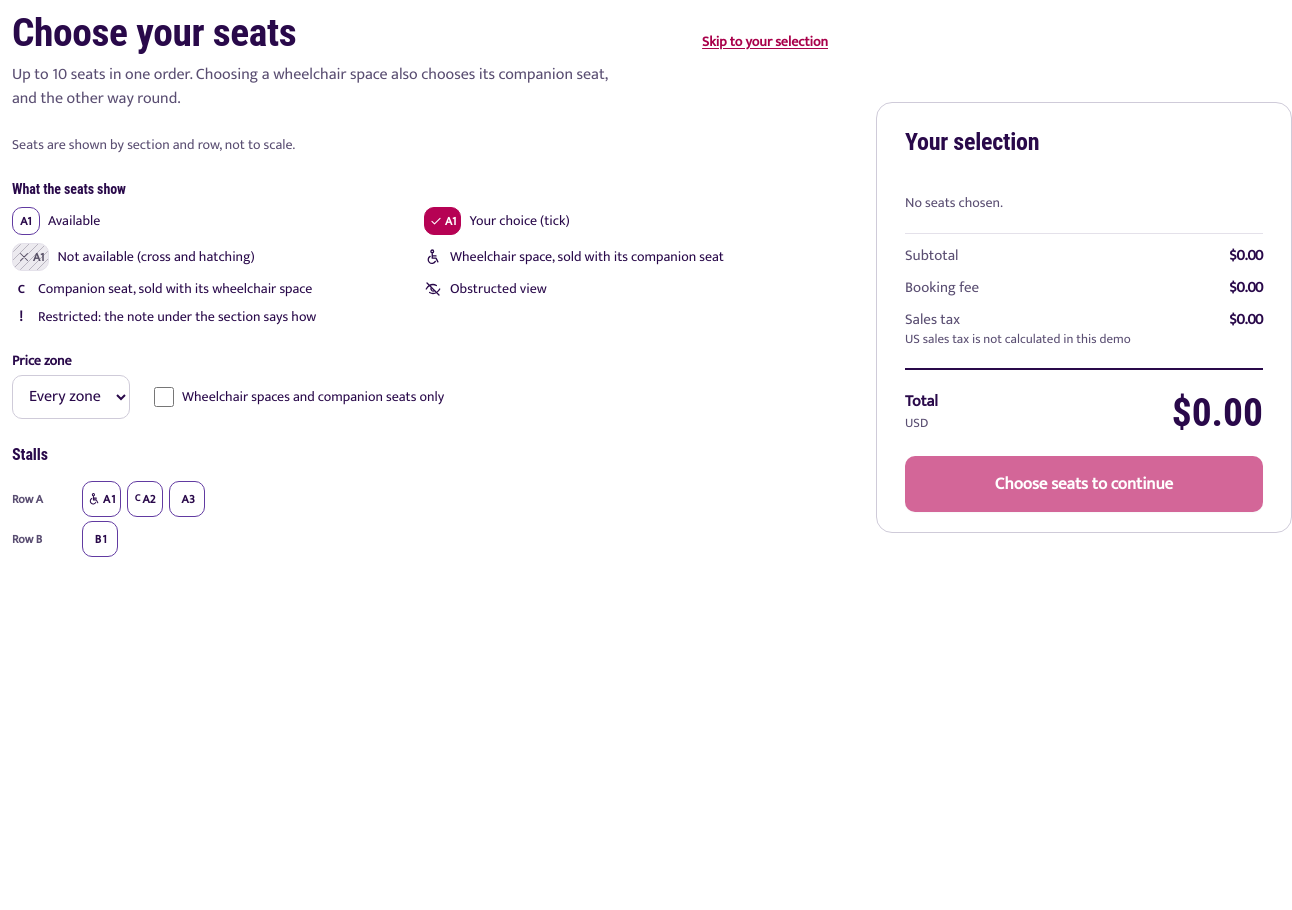
Test: reserving, naming and paying › says a code chosen before reserving is checked then, not that it took
Click the button "A3": (187,499) [169,481,205,517]
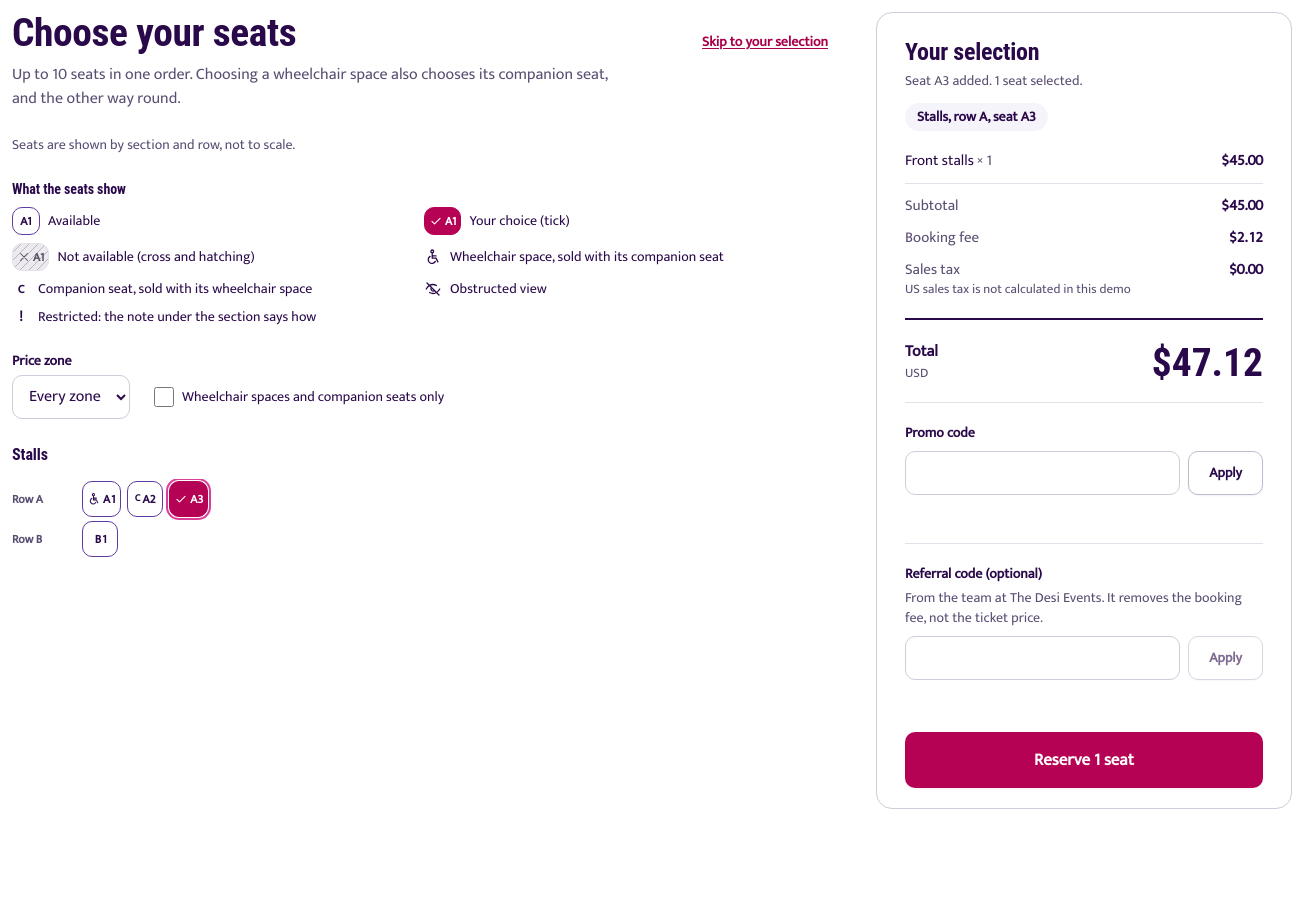
In the field labelled "Promo code": (1043,473) [905,451,1180,495], type "save10"
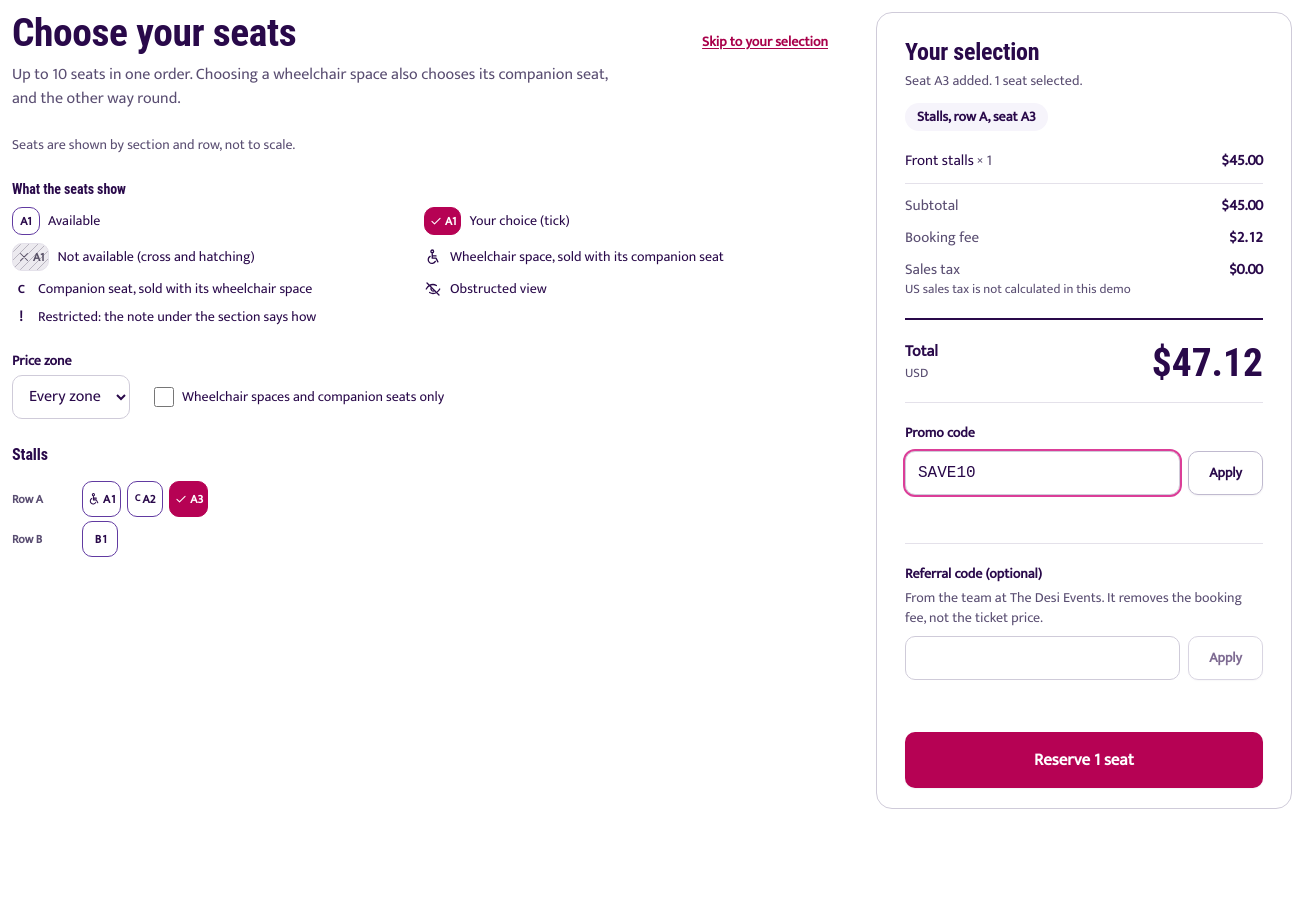
Click the button "Apply" below "Promo code": (1226,473) [1188,451,1263,495]
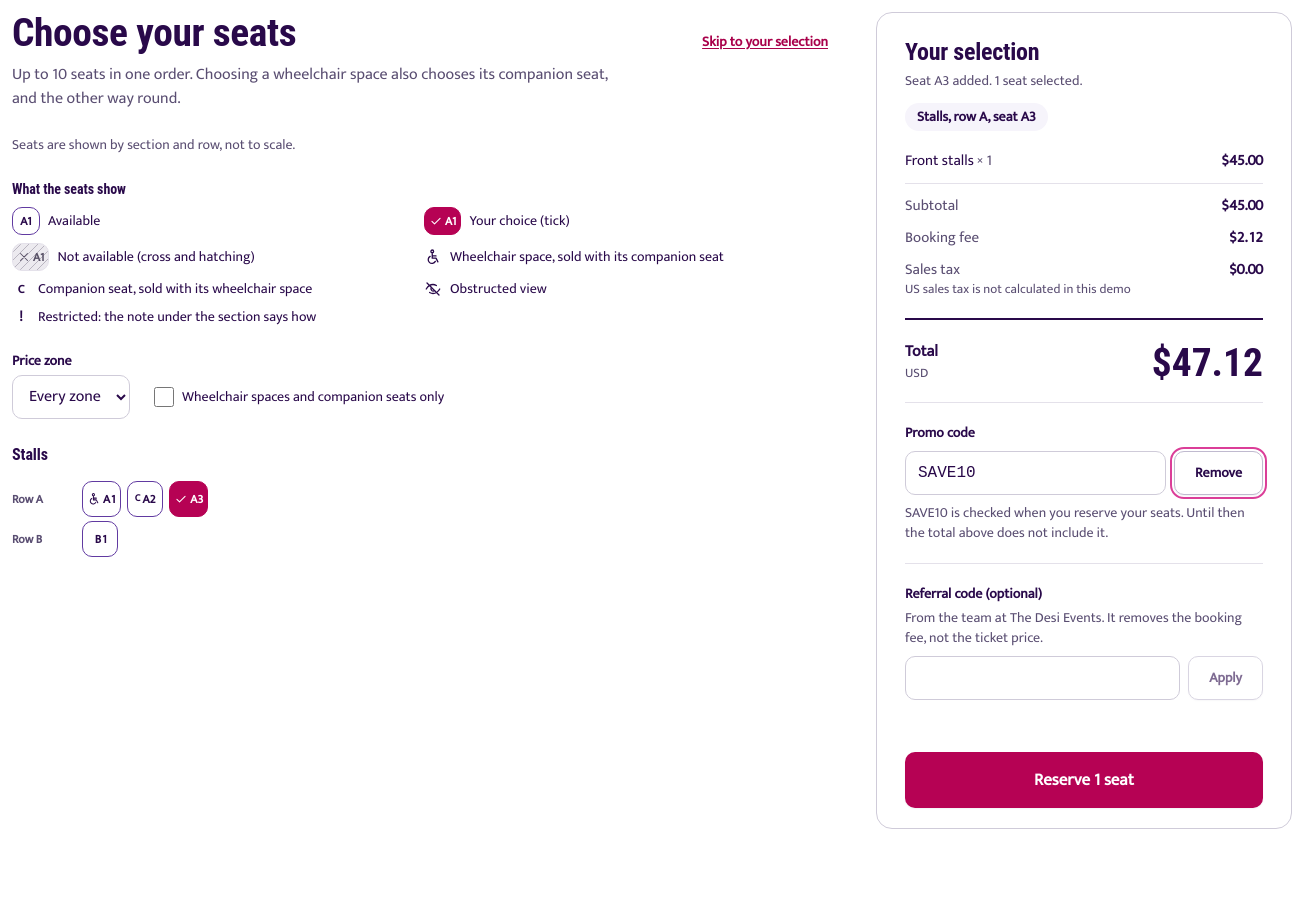
expect the text "applied" is not shown: met
expect the text "SAVE10 is checked when you reserve your seats. Until then the total above does not include it." is shown: met, box [905,501,1245,544]
Click the button "Reserve 1 seat": (1084,780) [905,752,1263,808]
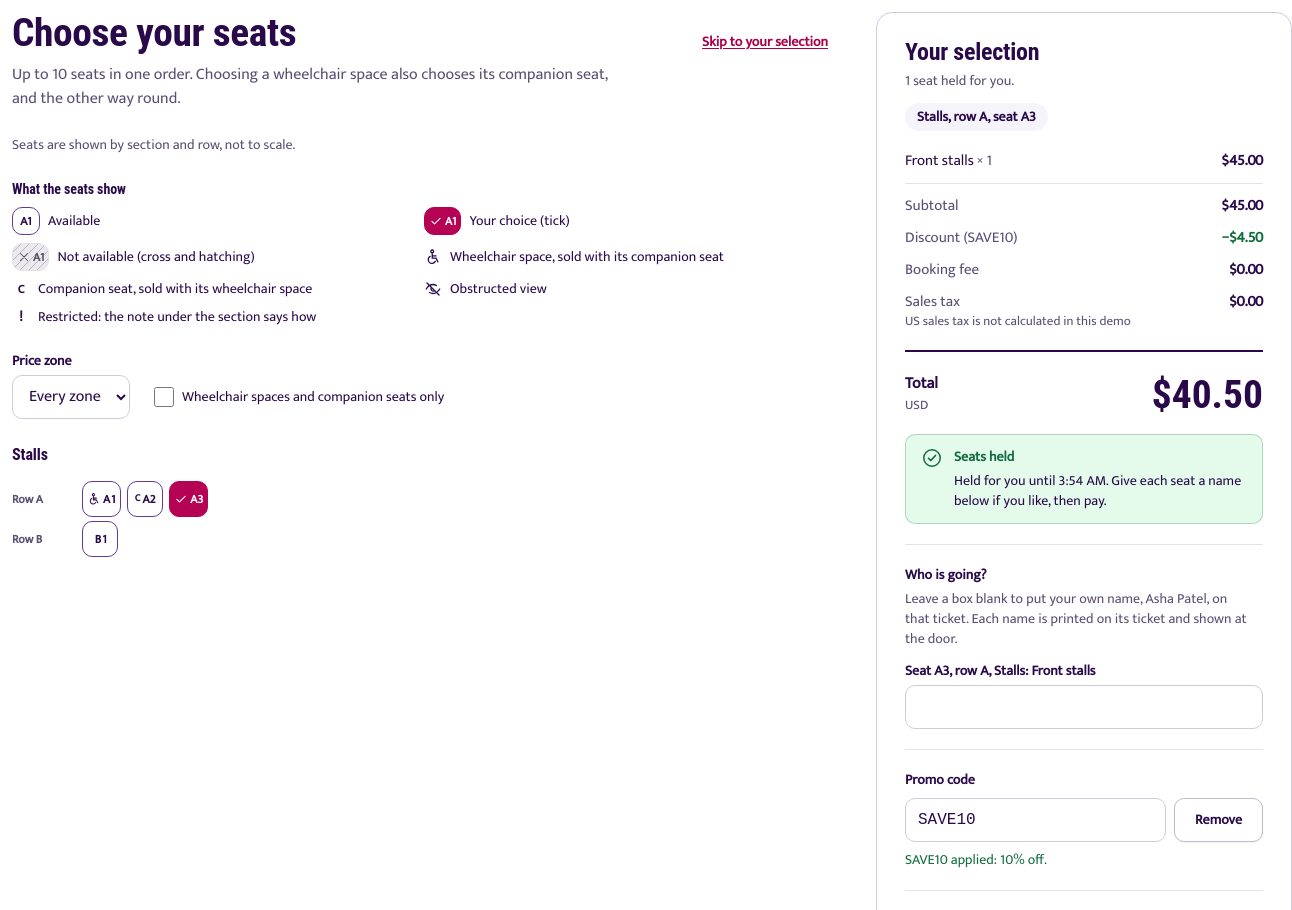
expect the text "SAVE10 applied: 10% off." is shown: met, box [905,848,1047,871]
